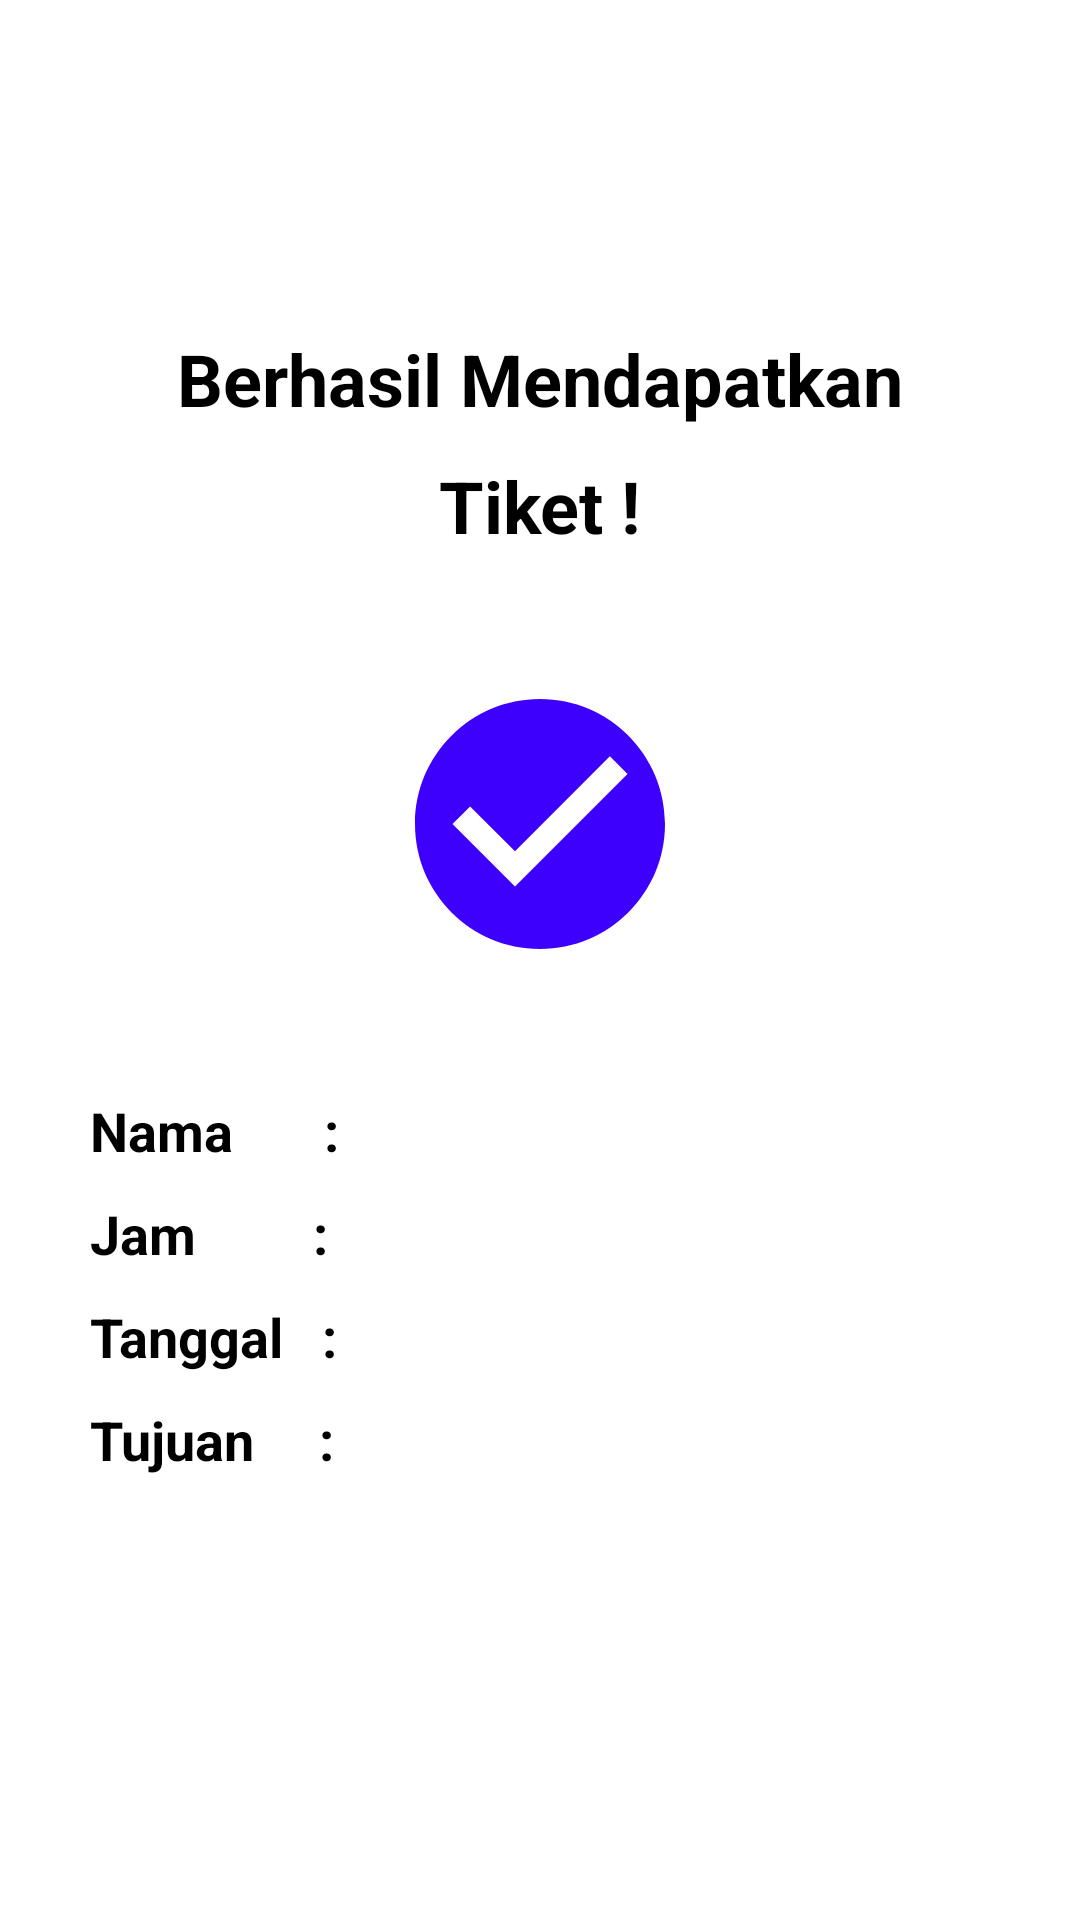

Where icons sit on this 1080px x 1920px app screen, as (x1, y1, x2, y2):
check circle: (415, 699, 665, 949)
